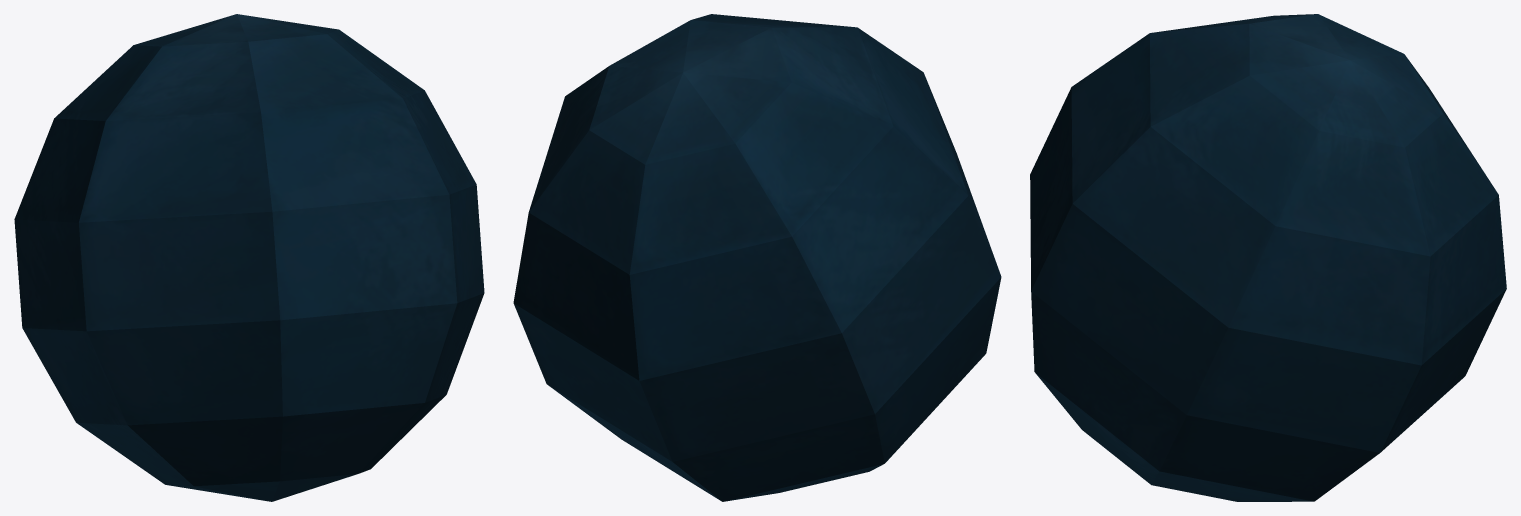
The model's file is Monolith3.fbx.
3 views of the same model, side by side, from view 1: azimuth 30°, elevation 25°; view 2: azimuth 150°, elevation 25°; view 3: azimuth 270°, elevation 25° (orthographic). The views are drawn at different scales.
Visible parts, largest first — view 1: polySurface7; view 2: polySurface7; view 3: polySurface7.
Part boxes in pixels (box(x1,y1,x2,y2)): polySurface7: box(14, 14, 484, 501); polySurface7: box(513, 14, 1001, 501); polySurface7: box(1030, 14, 1506, 501).
Bounding box in the file's own units: 3.69 × 3.77 × 3.59.
